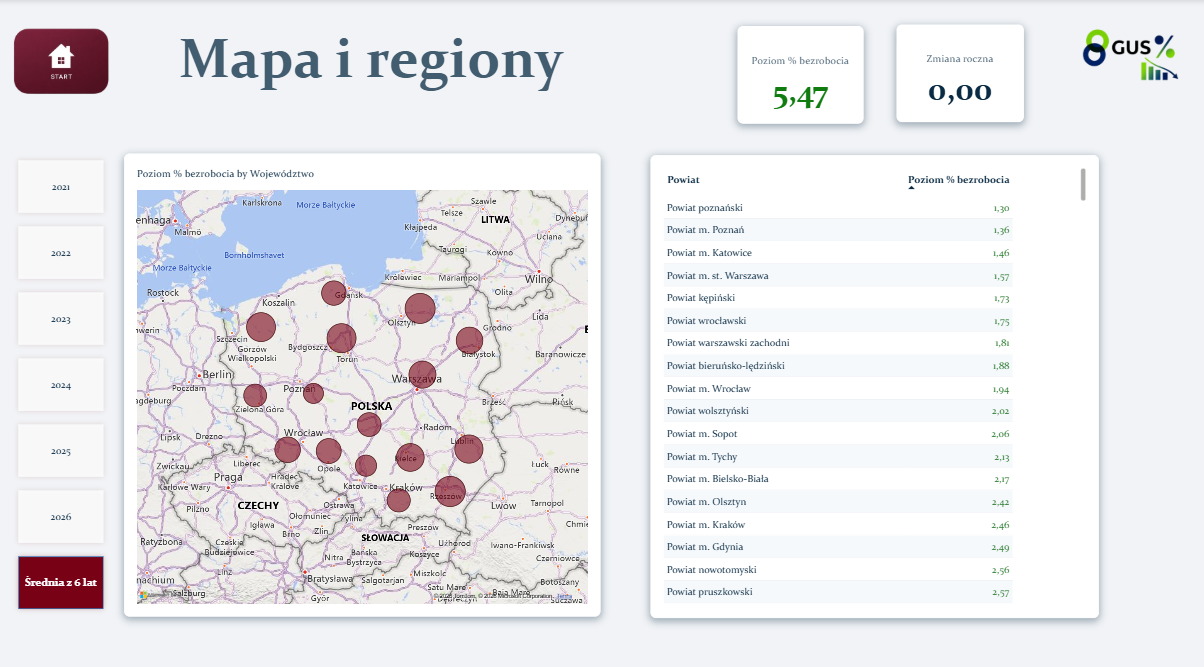

This screenshot's page, from the dashboard's own definition file:
{"tool":"powerbi","page":{"name":"Mapa i Regiony","canvas":[1920,1080],"ordinal":1},"visuals":[{"type":"map","fields":{"Size":["FACT_projektBezrobocie_GOLD.Bezrobocie_Wartosc_Dynamiczne"],"Category":["DIM_Województwa_GOLD.Nazwa"]},"box":[200,244.7,757.9,736.8],"z":0},{"type":"tableEx","fields":{"Values":["DIM_Geo_GOLD.Nazwa","FACT_projektBezrobocie_GOLD.Bezrobocie_Wartosc_Dynamiczne"]},"box":[1037.9,248.1,713.2,736.8],"z":1000},{"type":"cardVisual","fields":{"Data":["FACT_projektBezrobocie_GOLD.Bezrobocie_Wartosc_KPI"]},"box":[1176.3,42.1,200.4,155.1],"z":2000},{"type":"cardVisual","fields":{"Data":["FACT_projektBezrobocie_GOLD.Bezrobocie_Diff_YoY"]},"box":[1428.9,39.5,202.6,155.3],"z":3000},{"type":"advancedSlicerVisual","fields":{"Values":["Filtry_Lat.Wybor"]},"box":[21.1,244.7,157.9,736.8],"z":4000},{"type":"image","box":[1682,0,237.1,173.7],"z":5000},{"type":"textbox","box":[268.4,39.5,647.4,134.2],"z":6000},{"type":"image","box":[0,0,200.4,198],"z":7000}]}

Visuals, with their boxes in screenshot pixels (x1, y1, x2, y2), scaled from the page's 1920x1080 canvas onto the 1204x667 screenshot:
map - FACT_projektBezrobocie_GOLD.Bezrobocie_Wartosc_Dynamiczne x DIM_Województwa_GOLD.Nazwa: box=[125, 151, 601, 606]
tableEx - DIM_Geo_GOLD.Nazwa x FACT_projektBezrobocie_GOLD.Bezrobocie_Wartosc_Dynamiczne: box=[651, 153, 1098, 608]
cardVisual - FACT_projektBezrobocie_GOLD.Bezrobocie_Wartosc_KPI: box=[738, 26, 863, 122]
cardVisual - FACT_projektBezrobocie_GOLD.Bezrobocie_Diff_YoY: box=[896, 24, 1023, 120]
advancedSlicerVisual - Filtry_Lat.Wybor: box=[13, 151, 112, 606]
image: box=[1055, 0, 1203, 107]
textbox: box=[168, 24, 574, 107]
image: box=[0, 0, 126, 122]
